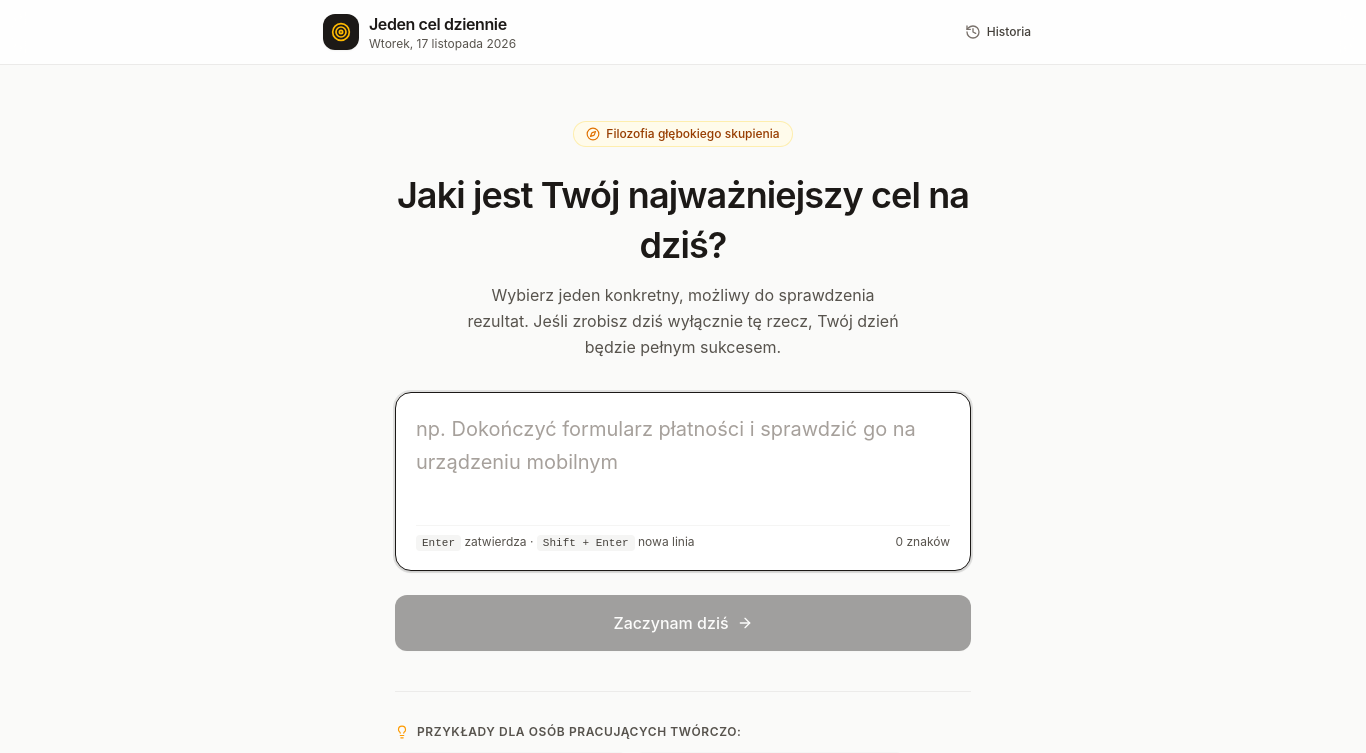
Test: przepływ: cel → postęp → refleksja → historia → CSV › gdy brakuje miejsca, pokazuje komunikat, który można zamknąć
Type "Cel bez miejsca" into the text box named "Najważniejszy cel na dziś". click: coordinates (683, 462)
box: [416,413,950,510]
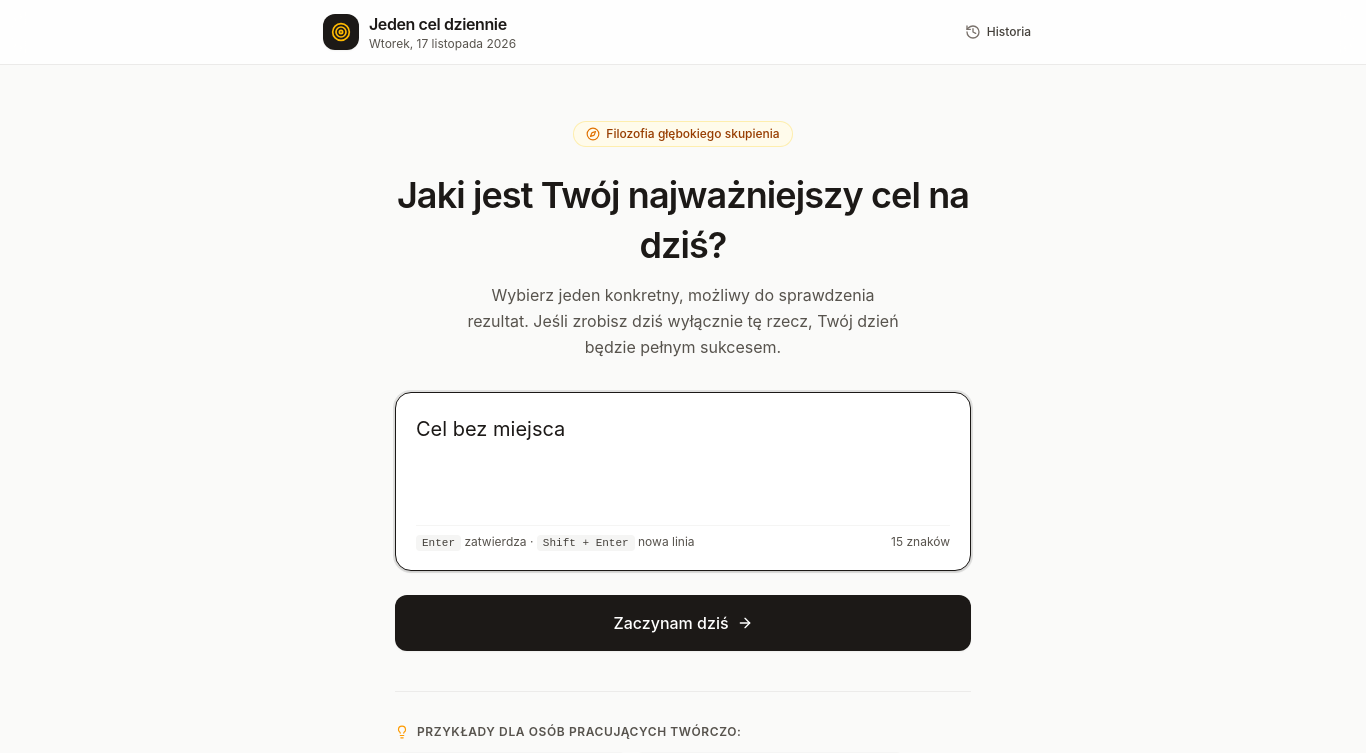
Click the button "Zaczynam dziś". click: coordinates (683, 623)
box: [395,595,971,651]
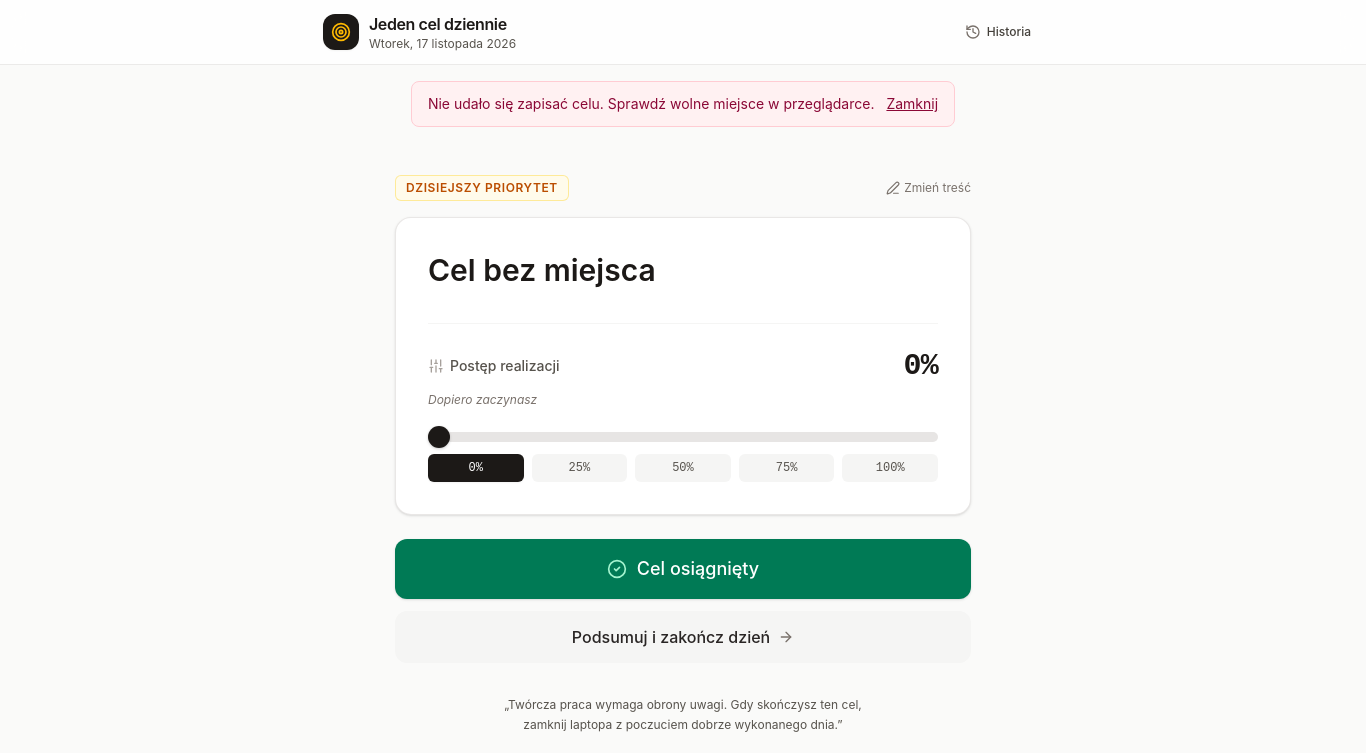
Check: the message shows "Nie udało się zapisać celu", box [428,95,874,112]
Click the button "Zamknij". click: coordinates (912, 104)
box: [886,94,938,114]
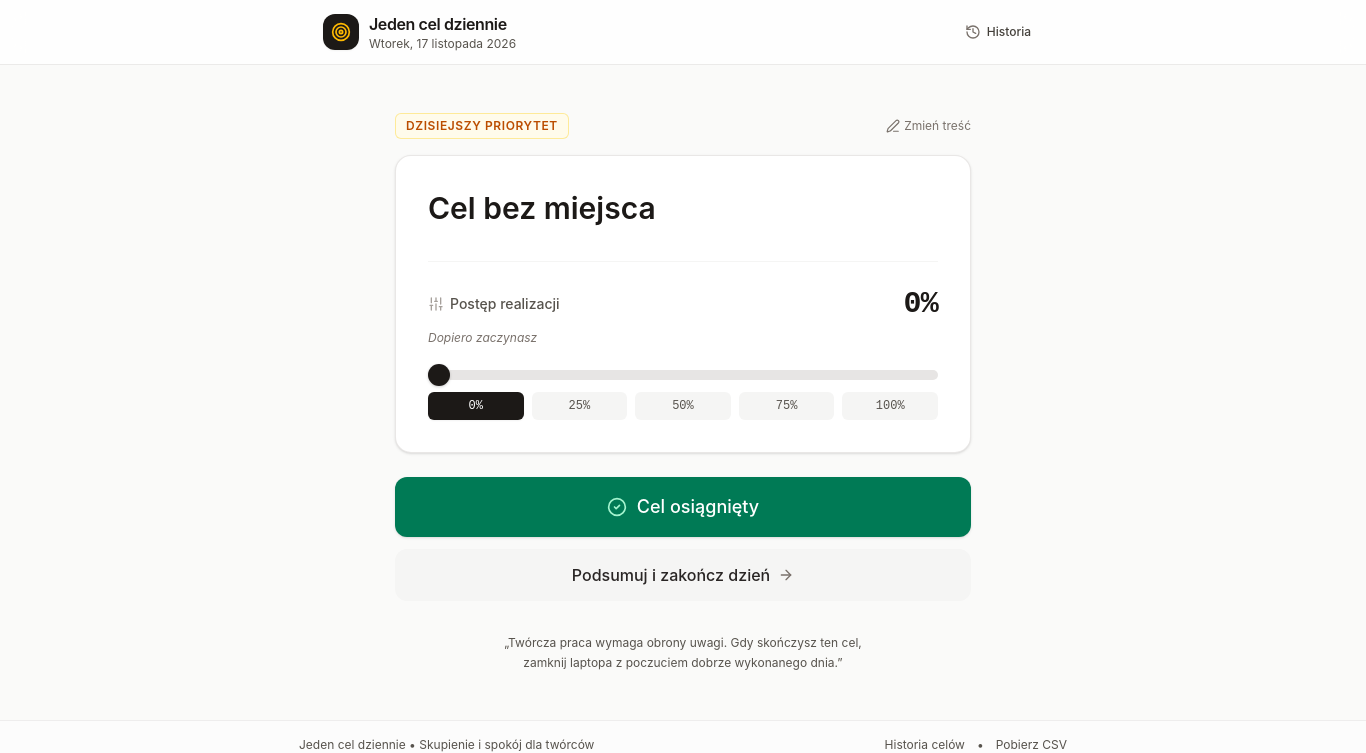
Check: the message "Nie udało się zapisać celu. Sprawdź wolne miejsce w przeglądarce. Zamknij" is gone
